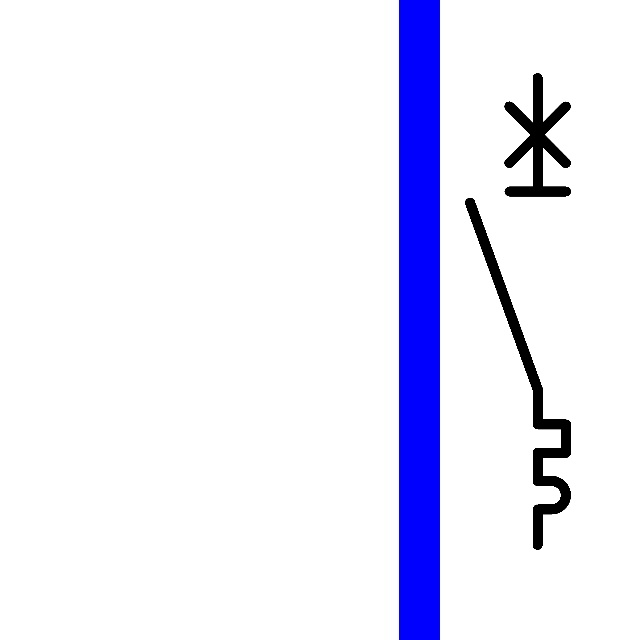interruptor_termomagnetico: (458, 66, 578, 557)
